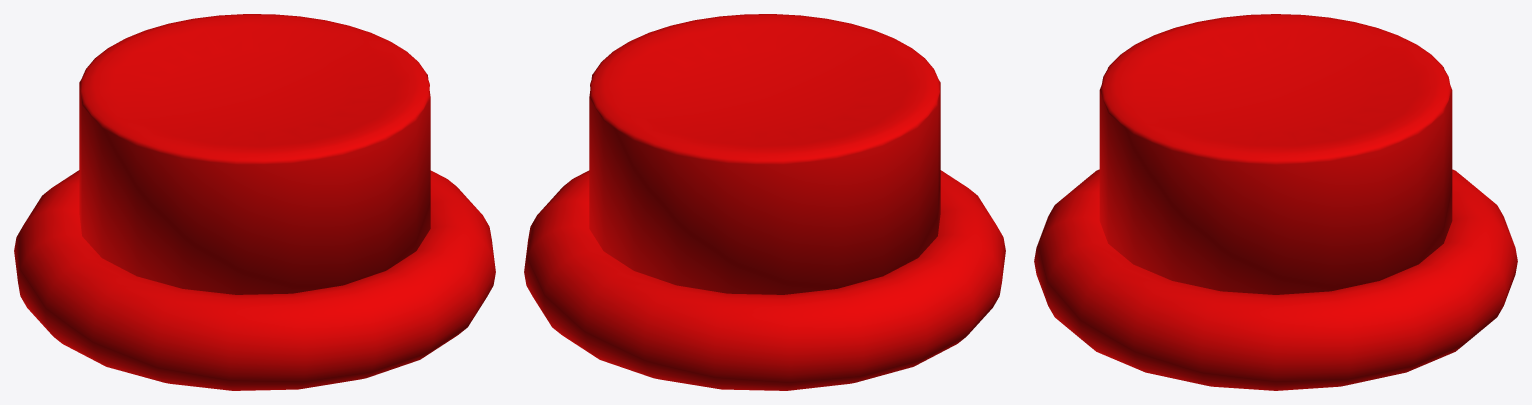
The model's file is botao.fbx.
3 views of the same model, side by side, from view 1: azimuth 30°, elevation 25°; view 2: azimuth 150°, elevation 25°; view 3: azimuth 270°, elevation 25° (orthographic).
Visible parts, largest first — view 1: pCylinder1, pTorus1; view 2: pCylinder1, pTorus1; view 3: pCylinder1, pTorus1.
Boxes of the visible parts, <box> form: pCylinder1: <box>79,14,430,294</box>; pTorus1: <box>14,170,495,390</box>; pCylinder1: <box>589,14,940,294</box>; pTorus1: <box>524,170,1005,390</box>; pCylinder1: <box>1099,14,1452,294</box>; pTorus1: <box>1034,169,1517,390</box>.
Bounding box in the file's own units: 3.45 × 1.74 × 3.45.
